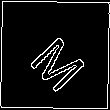M_NE: (21, 21, 89, 89)
